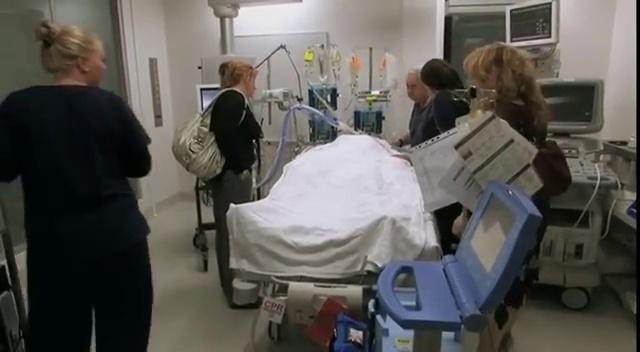others: (0, 18, 154, 351), (453, 37, 574, 352), (196, 58, 265, 309), (422, 47, 470, 140), (403, 58, 437, 138)
patient: (226, 130, 443, 283)
